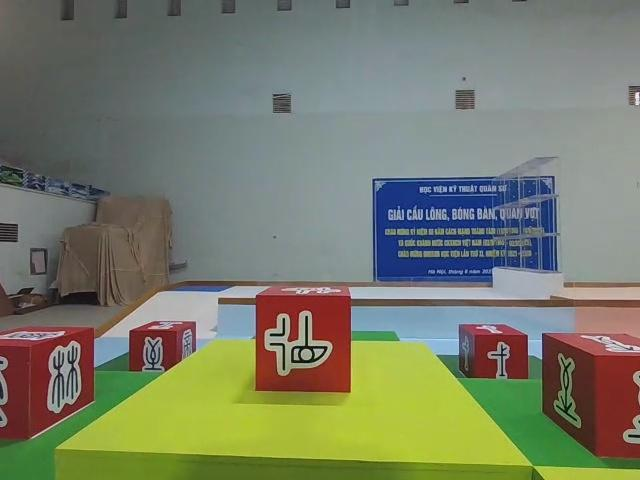R2 Fake: (0, 322, 100, 444), (127, 318, 196, 374)
R2 Real: (538, 327, 640, 464), (254, 284, 353, 395), (458, 321, 531, 382)
